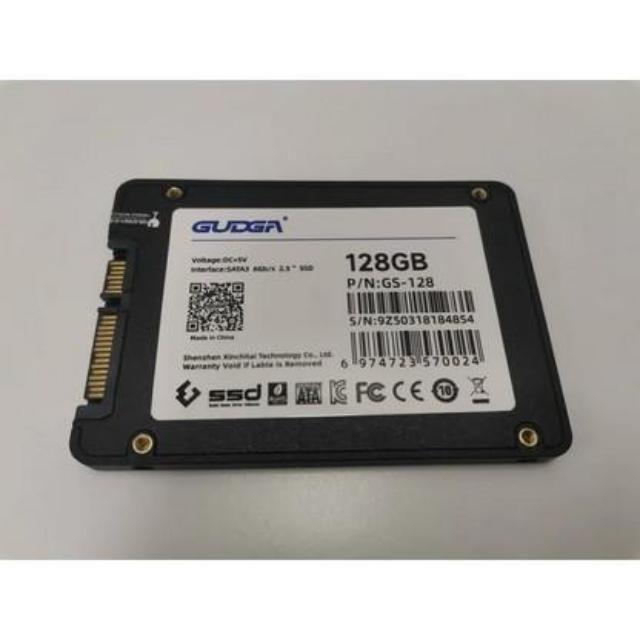DISK: (66, 164, 580, 481)
